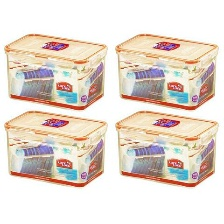plastic_box: (108, 27, 224, 114), (111, 103, 224, 192), (0, 105, 112, 191), (0, 27, 112, 113)
